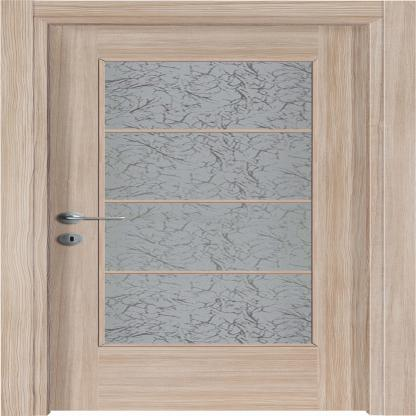door: (47, 24, 367, 410)
